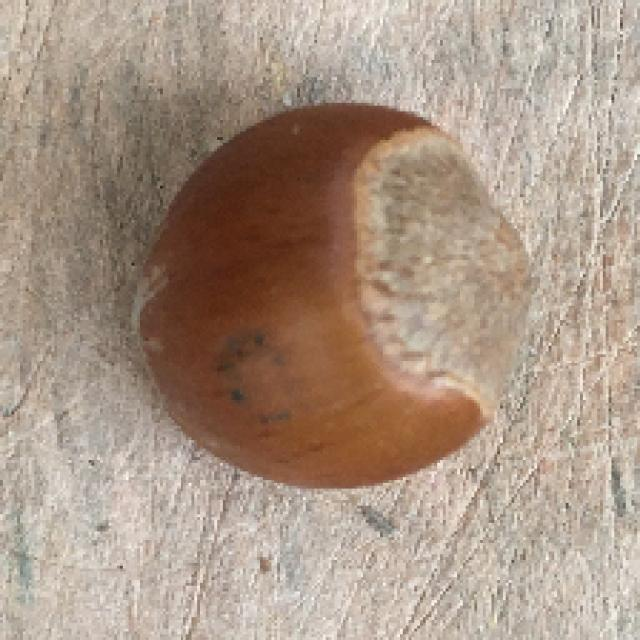damagedHazelnut: (124, 93, 534, 500)
